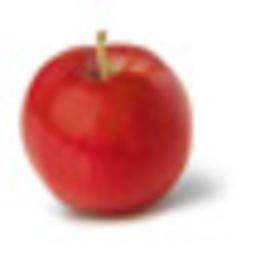apple: (17, 36, 193, 217)
